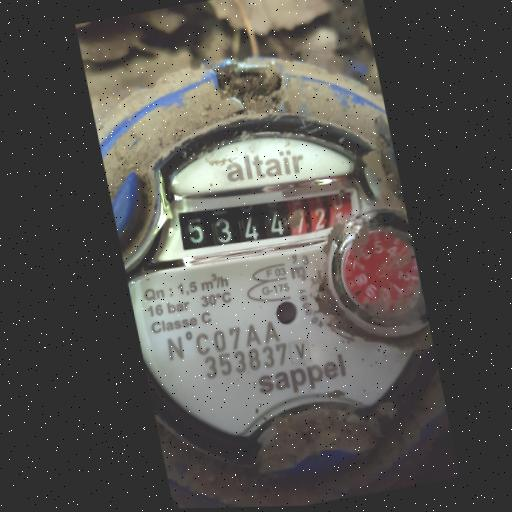0: (326, 191, 350, 226)
2: (307, 192, 333, 232)
3: (209, 205, 237, 246)
4: (235, 202, 263, 242), (263, 199, 288, 239)
5: (180, 208, 210, 250)
7: (285, 196, 311, 236)
border_water_meter_number: (174, 181, 358, 259)
